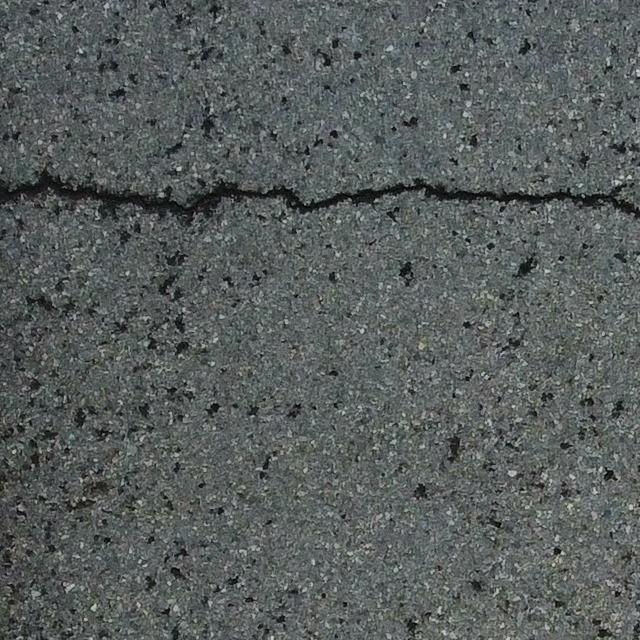TransverseCrack: (2, 166, 640, 223)
